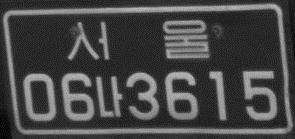0: (21, 71, 57, 122)
1: (207, 69, 229, 122)
3: (124, 71, 161, 122)
5: (239, 68, 278, 122)
6: (164, 69, 200, 123), (59, 71, 96, 122)
나: (92, 74, 124, 120)
서울_D: (63, 16, 210, 64)
